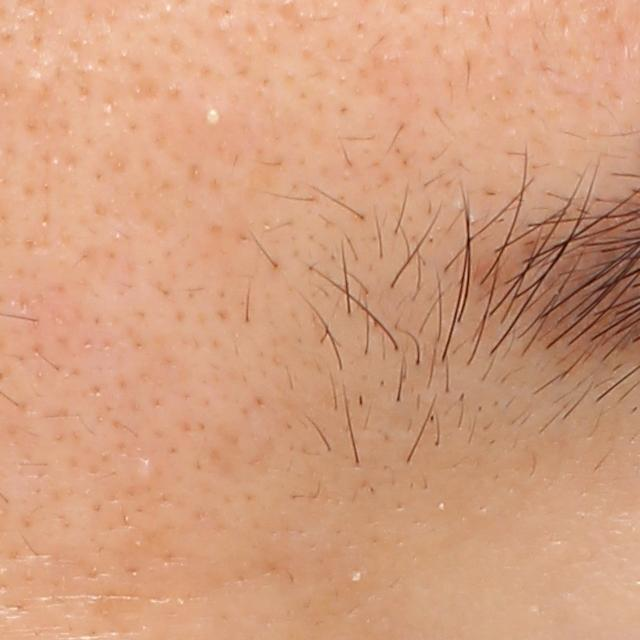pustule: (190, 99, 233, 138)
